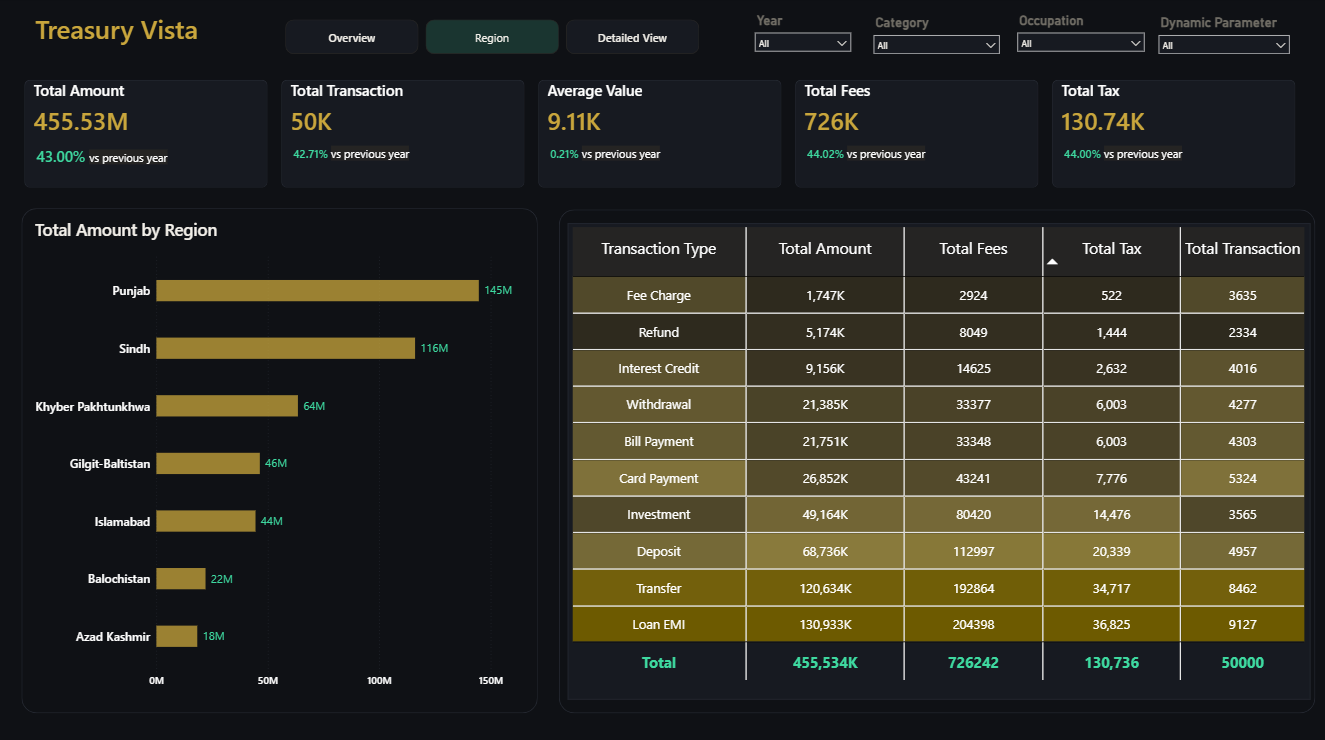

The page's visual inventory and layout, read from the dashboard file:
{"tool":"powerbi","page":{"name":"Region","canvas":[1920,1080],"ordinal":1},"visuals":[{"type":"shape","box":[810.7,307.6,1094.8,729.3],"z":0},{"type":"shape","box":[32.6,305.8,747.4,731.1],"z":1000},{"type":"cardVisual","fields":{"Data":["_Measures.Total Amount","_Measures.Total Transaction","_Measures.Average Value","_Measures.Total Fees","_Measures.Total Tax"]},"box":[19.9,103.2,1878.4,190],"z":2000},{"type":"textbox","box":[19.9,16.3,300.4,73.6],"z":3000},{"type":"slicer","title":"Year","fields":{"Values":["Calender Table.Year"]},"box":[1084,18.1,159.3,65.1],"z":4000},{"type":"slicer","title":"Year","fields":{"Values":["customers.occupation"]},"box":[1464,18.1,204.5,65.1],"z":5000},{"type":"slicer","title":"Year","fields":{"Values":["finance_transactions.merchant_category"]},"box":[1255.9,21.7,202.7,65.1],"z":6000},{"type":"slicer","title":"Year","fields":{"Values":[" Dynamic Parameter. Dynamic Parameter"]},"box":[1668.5,21.7,209.9,65.1],"z":7000},{"type":"clusteredBarChart","title":"Total Amount by Region","fields":{"Y":["_Measures.Total Amount"],"Category":["customers.state"]},"box":[47.1,320.3,720.2,689.5],"z":8000},{"type":"tableEx","fields":{"Values":["finance_transactions.transaction_type","_Measures.Total Amount","_Measures.Total Fees","_Measures.Total Tax","_Measures.Total Transaction"]},"box":[823.4,327.5,1074.9,689.5],"z":9000},{"type":"pageNavigator","box":[414.4,32.6,600,50],"z":10000}]}

Visuals, with their boxes in screenshot pixels (x1, y1, x2, y2), scaled from the page's 1920x1080 canvas onto the 1325x740 screenshot:
shape: bbox(559, 211, 1315, 710)
shape: bbox(22, 210, 538, 710)
cardVisual - _Measures.Total Amount x _Measures.Total Transaction: bbox(14, 71, 1310, 201)
textbox: bbox(14, 11, 221, 62)
"Year" slicer: bbox(748, 12, 858, 57)
"Year" slicer: bbox(1010, 12, 1151, 57)
"Year" slicer: bbox(867, 15, 1007, 59)
"Year" slicer: bbox(1151, 15, 1296, 59)
"Total Amount by Region" clusteredBarChart: bbox(33, 219, 530, 692)
tableEx - finance_transactions.transaction_type x _Measures.Total Amount: bbox(568, 224, 1310, 697)
pageNavigator: bbox(286, 22, 700, 57)
